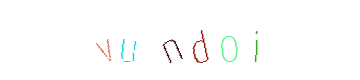0: (179, 0, 259, 80)
D: (147, 0, 227, 80)
I: (216, 0, 296, 80)
N: (139, 0, 219, 80)
U: (118, 0, 198, 80)
V: (87, 0, 167, 80)
